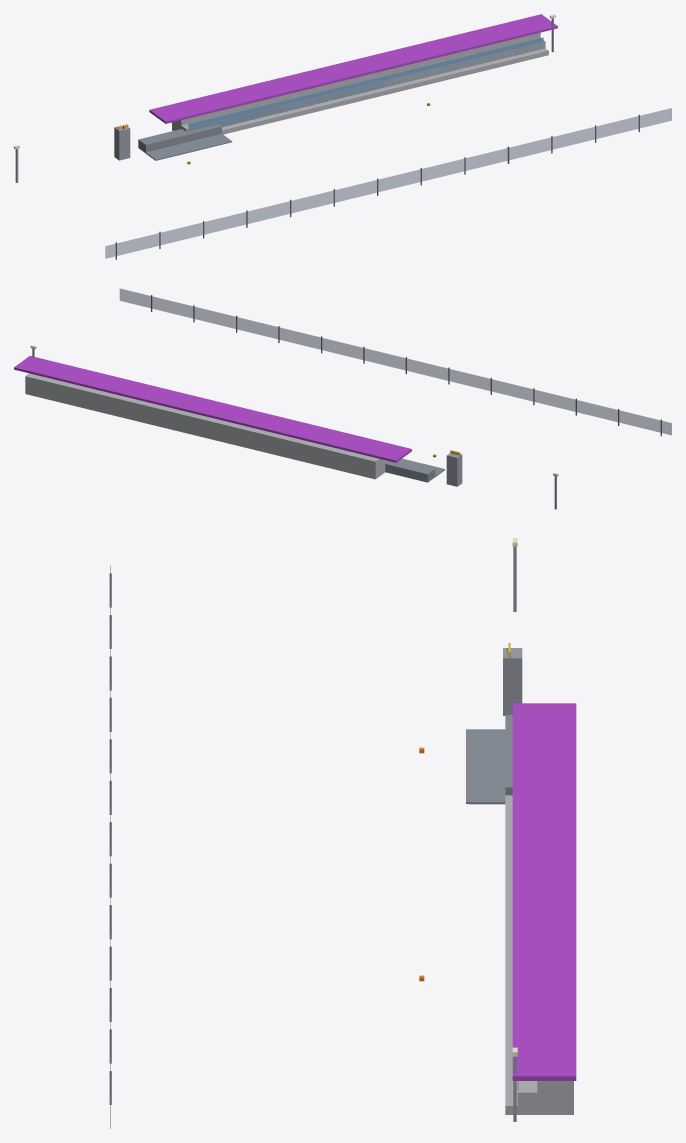
Rendered from venue_11.obj.
3 views of the same model, one above another, from view 1: azimuth 30°, elevation 25°; view 2: azimuth 150°, elevation 25°; view 3: azimuth 270°, elevation 25° (orthographic). The views are drawn at different scales.
Bounding box in the file's own units: 520 × 32 × 190.
